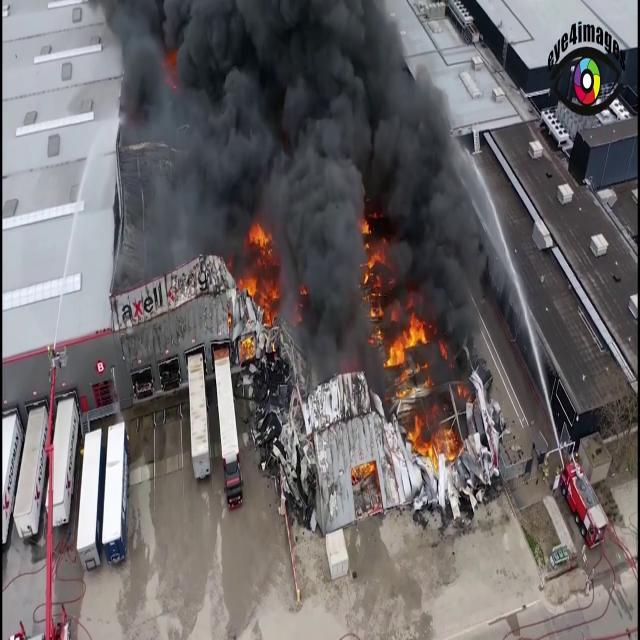Fire: (383, 304, 434, 380), (404, 406, 458, 467)
Smoke: (90, 0, 497, 382)
